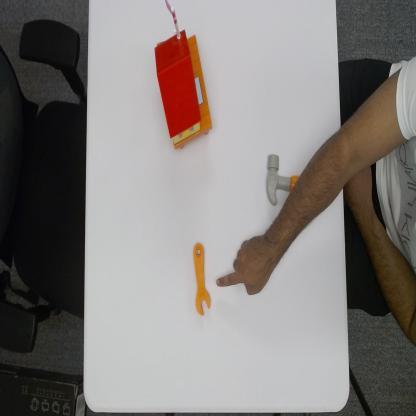Arm: (271, 131, 346, 249)
Hammer: (265, 149, 304, 210)
Hand: (216, 233, 271, 297)
House: (154, 0, 214, 151)
Screwdriver: (191, 236, 214, 316)
